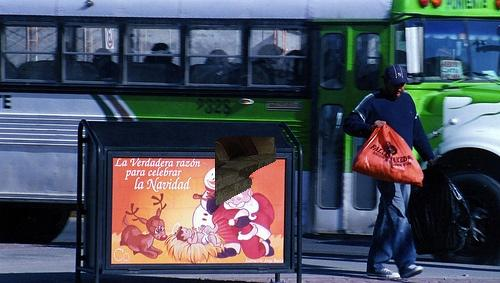tampered: (216, 136, 276, 205)
